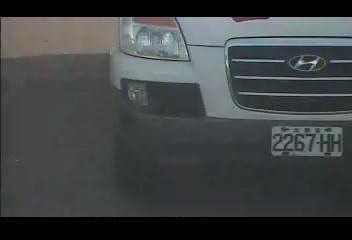plate: (270, 124, 345, 159)
